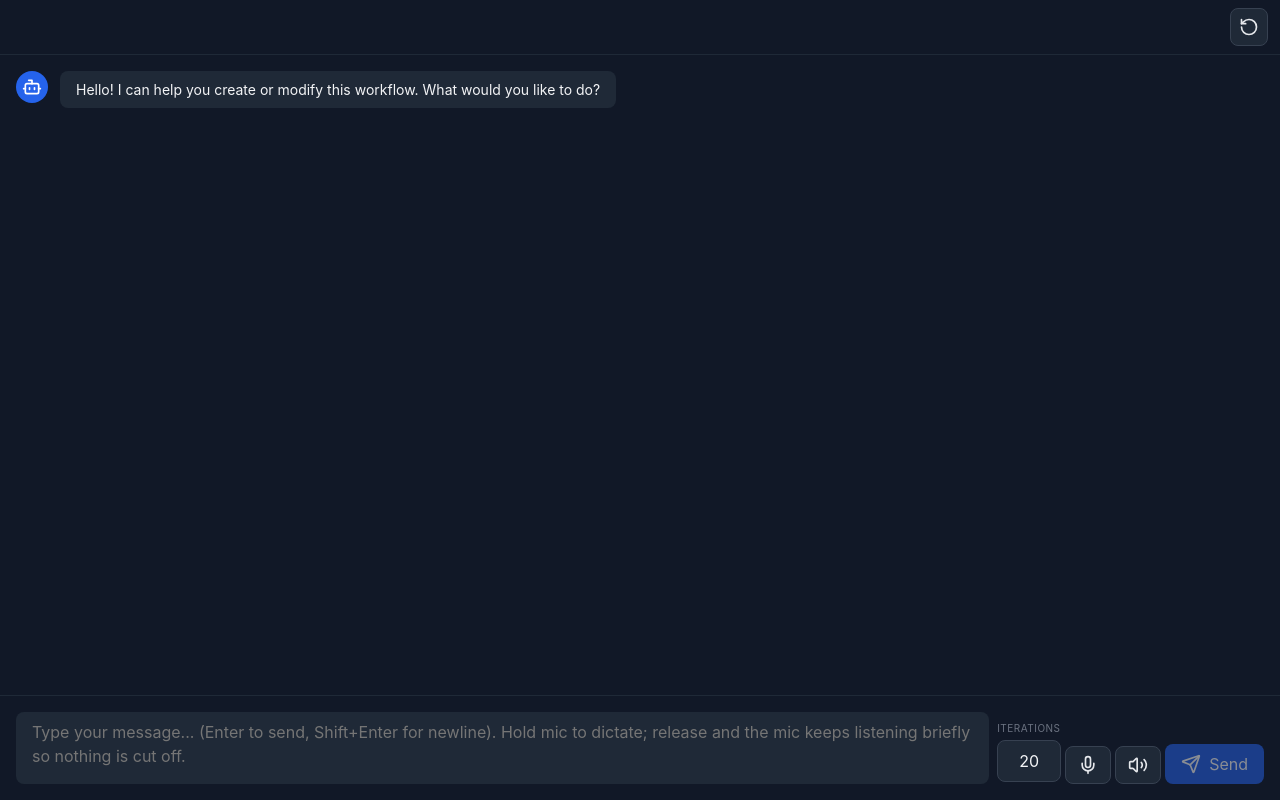
Test case: WorkflowChat › should handle non-Error exception
Replace the text in the text box with placeholder "Type your message" with "Test message": (503, 748) x1=16 y1=712 x2=989 y2=784
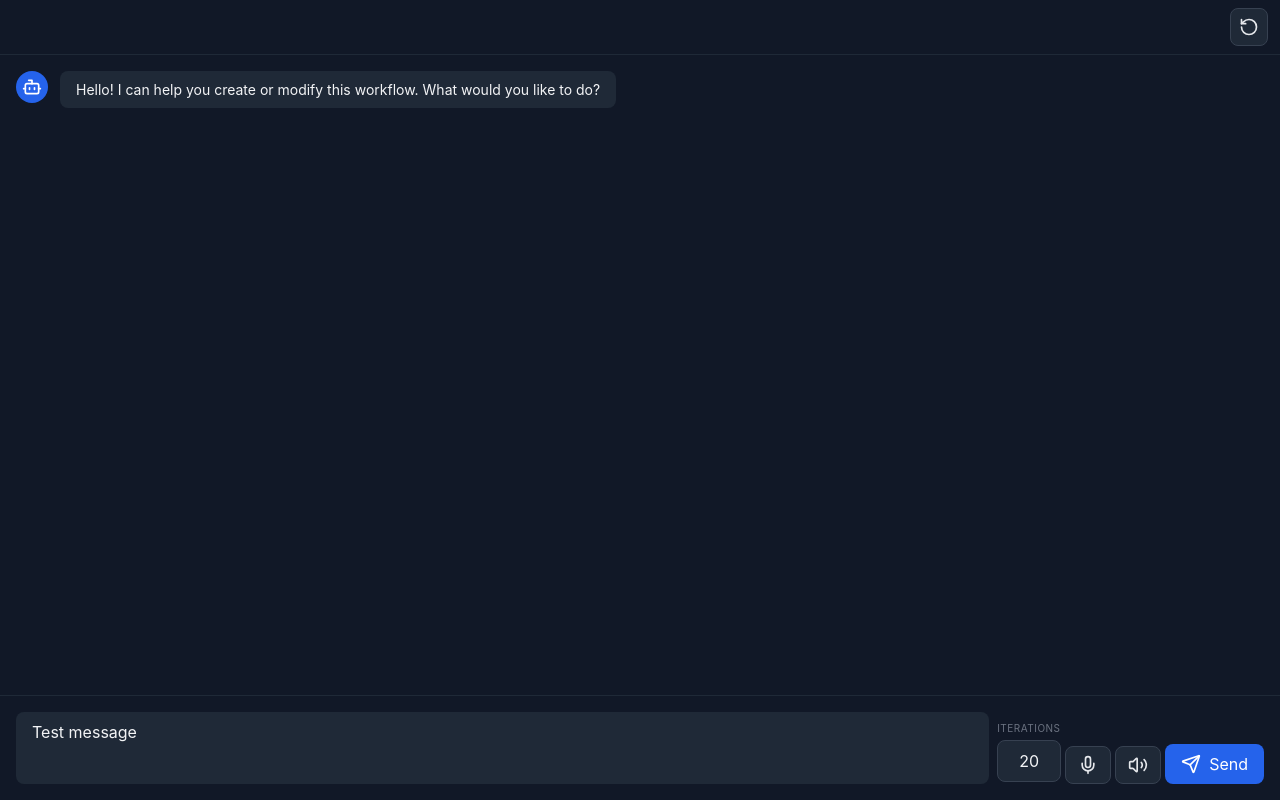
Click the button "Send": (1215, 764) x1=1165 y1=744 x2=1264 y2=784
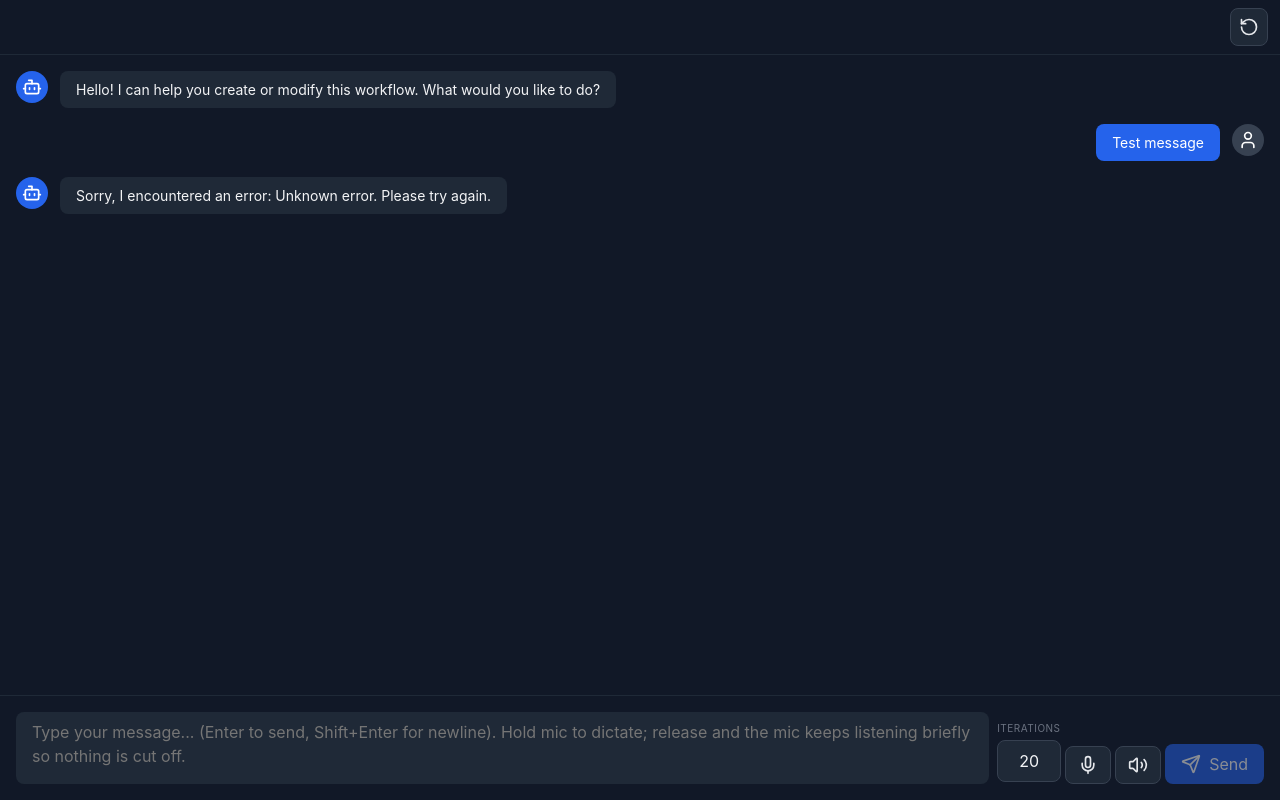
expect the text "Unknown error" is shown: met, box x1=76 y1=187 x2=491 y2=204
